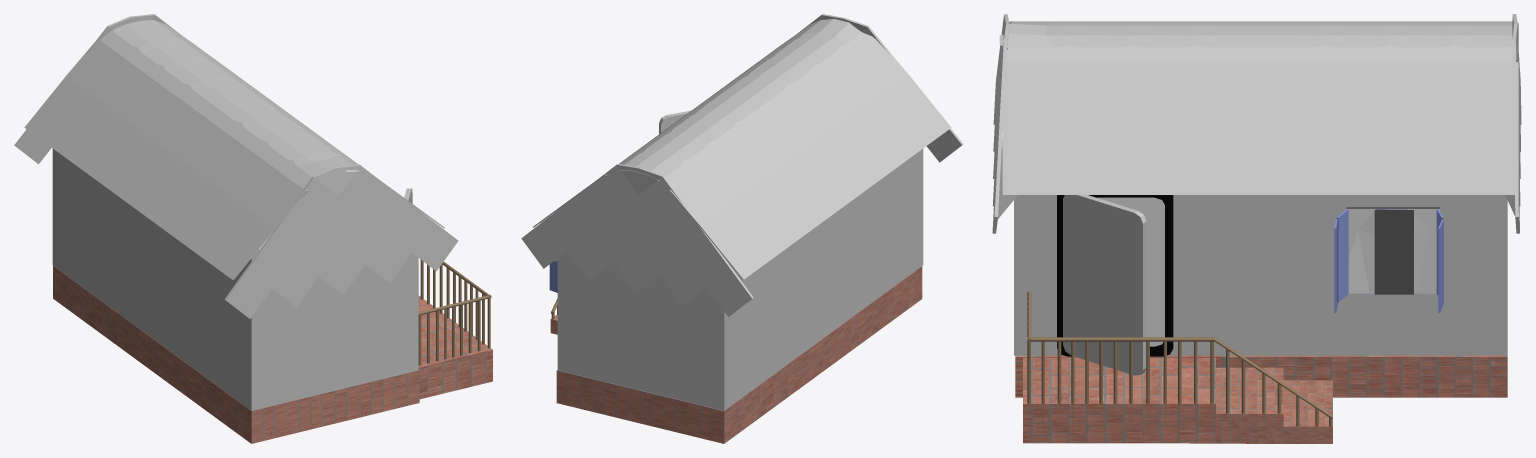
Rendered from house.fbx.
The picture shows the model from 3 angles, left to right: view 1: azimuth 30°, elevation 25°; view 2: azimuth 150°, elevation 25°; view 3: azimuth 270°, elevation 25°; orthographic projection. The views are drawn at different scales.
Visible parts, largest first — view 1: ev; view 2: ev; view 3: ev.
Part boxes in pixels (<box>): ev: <box>14,14,492,443</box>; ev: <box>521,14,963,443</box>; ev: <box>992,14,1521,443</box>.
Bounding box in the file's own units: 3336 × 2970 × 4431.
